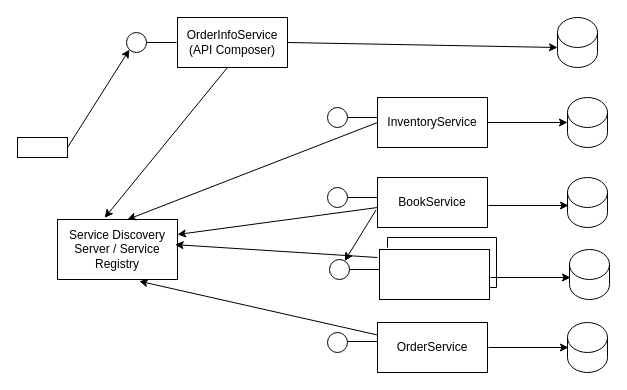
Some shapes in this 627 by 390 pixel diagram are drawn without their labels. The shapes that lost their labels are listed below. From the top down, each one's centre as x and y in pixels, then its label:
At (x=42, y=147): "Client A".
At (x=434, y=274): "ReviewService".
